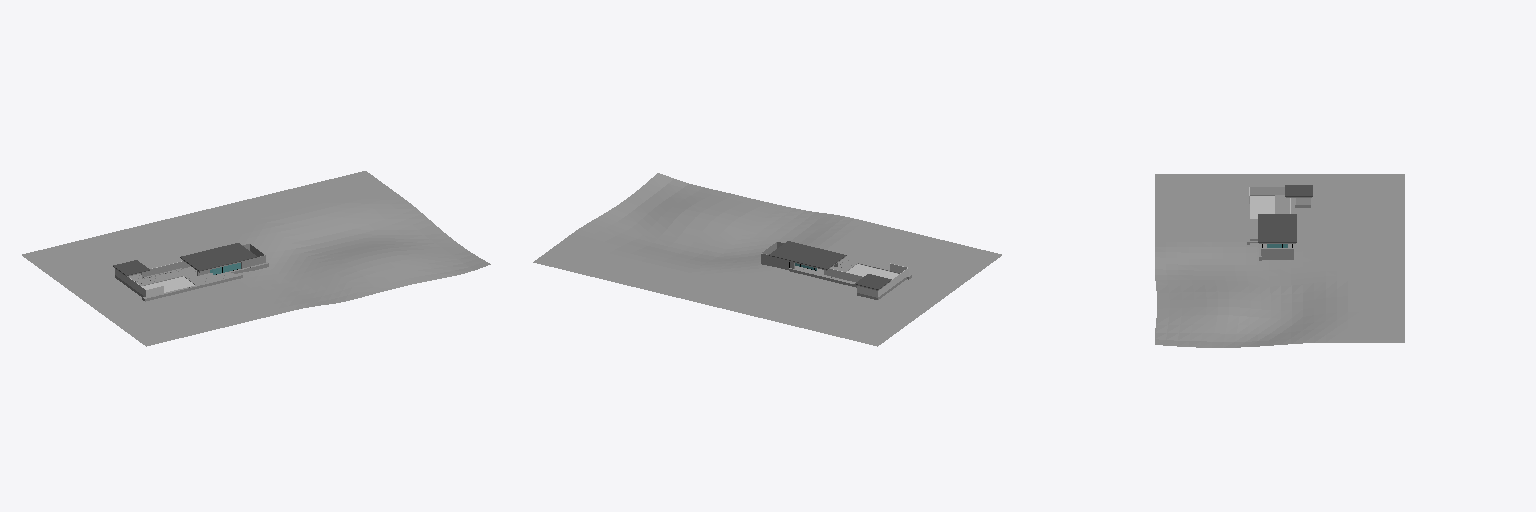
The model's file is pabellonBarcelona.obj.
3 views of the same model, side by side, from view 1: azimuth 30°, elevation 25°; view 2: azimuth 150°, elevation 25°; view 3: azimuth 270°, elevation 25° (orthographic).
Parts seen in each view (by area): view 1: tree_scatter_plane_Plane.018, Plane.001; view 2: tree_scatter_plane_Plane.018, Plane.001; view 3: tree_scatter_plane_Plane.018, Plane.001.
Part boxes in pixels (left/top/right/bottom): tree_scatter_plane_Plane.018: left=22, top=171, right=490, bottom=346; Plane.001: left=180, top=243, right=256, bottom=272; tree_scatter_plane_Plane.018: left=533, top=173, right=1001, bottom=346; Plane.001: left=769, top=241, right=846, bottom=270; tree_scatter_plane_Plane.018: left=1155, top=174, right=1404, bottom=347; Plane.001: left=1258, top=214, right=1296, bottom=243.
Bounding box in the file's own units: 143 × 7.42 × 89.88.